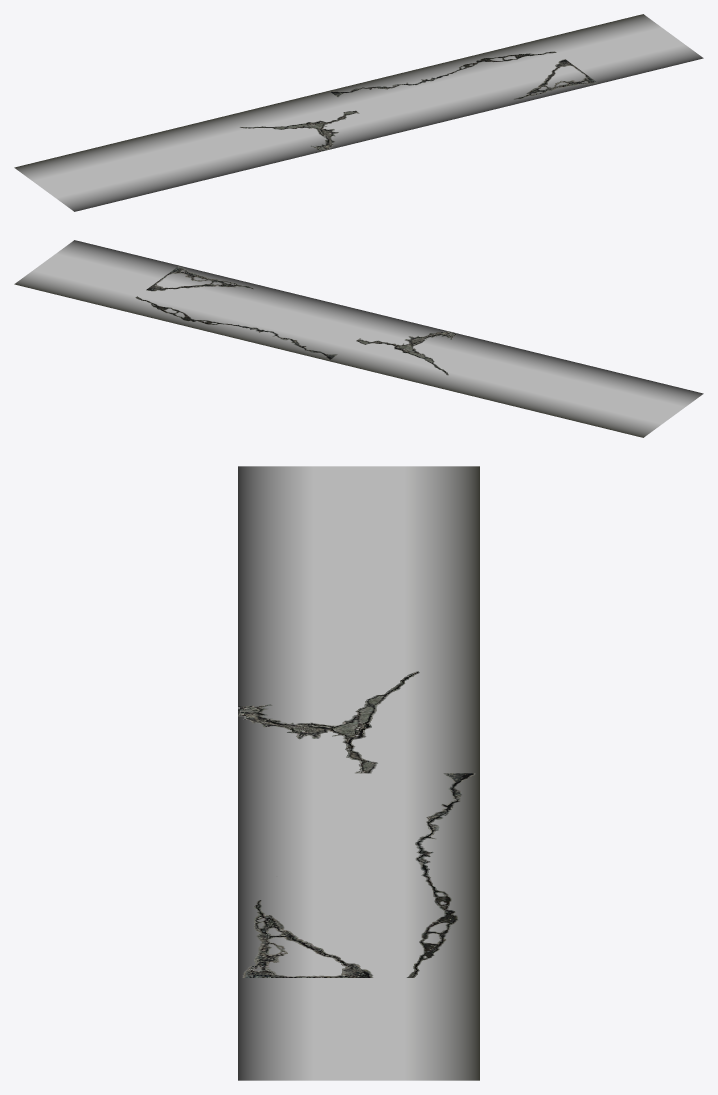
Rendered from SWConcrete1x6Shade01.FBX.
The picture shows the model from 3 angles, top to bottom: view 1: azimuth 30°, elevation 25°; view 2: azimuth 150°, elevation 25°; view 3: azimuth 270°, elevation 25°; orthographic projection. The views are drawn at different scales.
Visible parts, largest first — view 1: Slab, Cracks; view 2: Slab, Cracks; view 3: Slab, Cracks.
Part boxes in pixels (x1,y1,x2,y2): Slab: (14,14,703,211); Cracks: (239,51,597,151); Slab: (14,240,703,437); Cracks: (135,266,457,375); Slab: (238,466,479,1080); Cracks: (238,671,475,977).
Size of what is drawn, in the model's own units: 15.36 by 0.00333 by 2.56.
